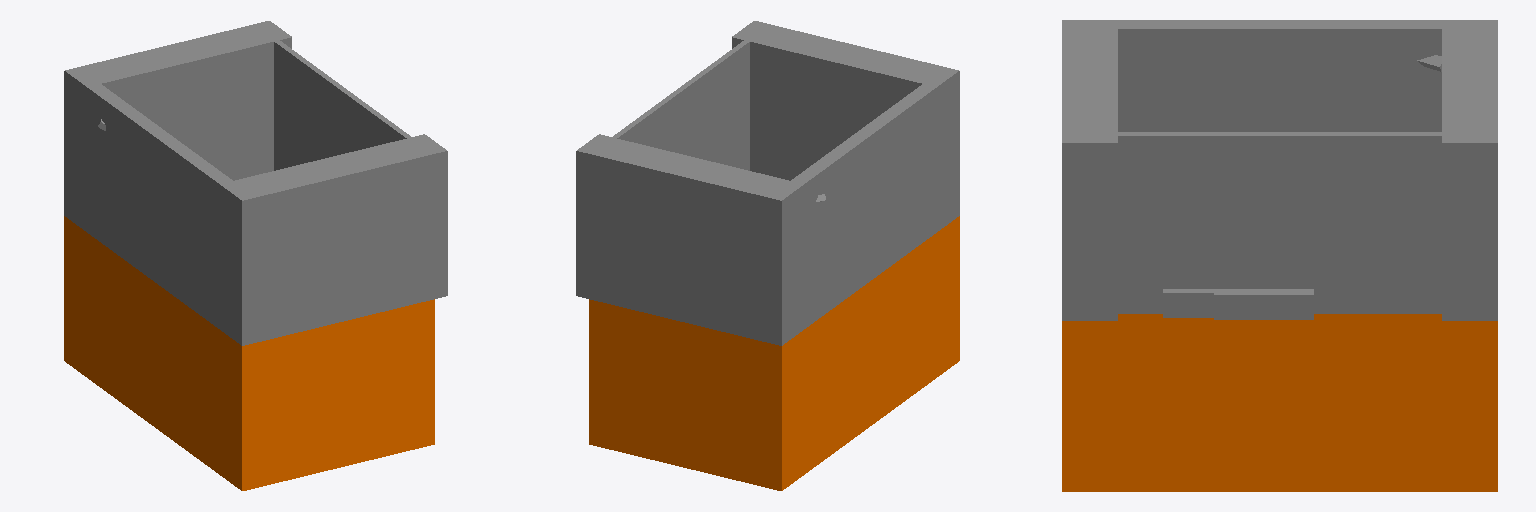
URDF robot description (mantis_ur5):
<?xml version="1.0" ?>
<!-- =================================================================================== -->
<!-- |    This document was autogenerated by xacro from urdf/mantis_ur5_arm_workspace.xacro | -->
<!-- |    EDITING THIS FILE BY HAND IS NOT RECOMMENDED                                 | -->
<!-- =================================================================================== -->
<robot name="mantis_ur5" xmlns:controller="http://playerstage.sourceforge.net/gazebo/xmlschema/#controller" xmlns:interface="http://playerstage.sourceforge.net/gazebo/xmlschema/#interface" xmlns:sensor="http://playerstage.sourceforge.net/gazebo/xmlschema/#sensor" xmlns:xacro="http://ros.org/wiki/xacro">
  <gazebo>
    <controller:gazebo_ros_controller_manager name="gazebo_ros_controller_manager" plugin="libgazebo_ros_controller_manager.so">
      <alwaysOn>true</alwaysOn>
      <updateRate>1000.0</updateRate>
      <interface:audio name="gazebo_ros_controller_manager_dummy_iface"/>
    </controller:gazebo_ros_controller_manager>
    <controller:gazebo_ros_power_monitor name="gazebo_ros_power_monitor_controller" plugin="libgazebo_ros_power_monitor.so">
      <alwaysOn>true</alwaysOn>
      <updateRate>1.0</updateRate>
      <timeout>5</timeout>
      <interface:audio name="power_monitor_dummy_interface"/>
      <powerStateTopic>power_state</powerStateTopic>
      <powerStateRate>10.0</powerStateRate>
      <fullChargeCapacity>87.78</fullChargeCapacity>
      <dischargeRate>-474</dischargeRate>
      <chargeRate>525</chargeRate>
      <dischargeVoltage>15.52</dischargeVoltage>
      <chargeVoltage>16.41</chargeVoltage>
    </controller:gazebo_ros_power_monitor>
  </gazebo>
  <material name="yellow_transparent">
    <color rgba="0 1 1 0.4"/>
  </material>
  <material name="orange_transparent">
    <color rgba="1 0.5 0 0.4"/>
  </material>
  <material name="gray_transparent">
    <color rgba="0.6 0.6 0.6 0.4"/>
  </material>
  <material name="blue_transparent">
    <color rgba="0 0.8 1 0.4"/>
  </material>
  <link name="workcell_frame"/>
  <!-- property list -->
  <!-- instantiating arm and gripper -->
  <link name="ur5_arm_base_link">
    <visual>
      <geometry>
        <mesh filename="package://ur5_description/meshes/Base.dae"/>
      </geometry>
      <origin rpy="0.0 0.0 2.3561944875" xyz="0.0 0.0 0.003"/>
    </visual>
    <inertial>
      <mass value="4.0"/>
      <inertia ixx="1.0" ixy="0.0" ixz="0.0" iyy="1.0" iyz="0.0" izz="1.0"/>
    </inertial>
  </link>
  <joint name="ur5_arm_shoulder_pan_joint" type="revolute">
    <parent link="ur5_arm_base_link"/>
    <child link="ur5_arm_shoulder_link"/>
    <origin rpy="0.0 0.0 0.0" xyz="0.0 0.0 0.089159"/>
    <axis xyz="0 0 1"/>
    <limit effort="10.0" lower="-6.2831853" upper="6.2831853" velocity="3.14159265"/>
    <dynamics damping="10" friction="0.1"/>
  </joint>
  <link name="ur5_arm_shoulder_link">
    <visual>
      <geometry>
        <mesh filename="package://ur5_description/meshes/Shoulder.dae"/>
      </geometry>
    </visual>
    <collision>
      <geometry>
        <mesh filename="package://ur5_description/meshes/collision/Shoulder.dae"/>
      </geometry>
      <!-- <origin rpy="0.0 0.0 0.0" xyz="0.0 0.0 -0.009159"/> -->
    </collision>
    <inertial>
      <mass value="3.7"/>
      <inertia ixx="1.0" ixy="0.0" ixz="0.0" iyy="1.0" iyz="0.0" izz="1.0"/>
      <origin rpy="0.0 0.0 0.0" xyz="0.0 0.00193 -0.02561"/>
    </inertial>
  </link>
  <joint name="ur5_arm_shoulder_lift_joint" type="revolute">
    <parent link="ur5_arm_shoulder_link"/>
    <child link="ur5_arm_upper_arm_link"/>
    <origin rpy="0.0 1.570796325 0.0" xyz="0.0 0.13585 0.0"/>
    <axis xyz="0 1 0"/>
    <limit effort="10.0" lower="-6.2831853" upper="6.2831853" velocity="3.14159265"/>
    <dynamics damping="10" friction="0.1"/>
  </joint>
  <link name="ur5_arm_upper_arm_link">
    <visual>
      <geometry>
        <mesh filename="package://ur5_description/meshes/UpperArm.dae"/>
      </geometry>
      <origin rpy="0.0 0.0 0.0" xyz="0.0 0.0 0.0"/>
    </visual>
    <collision>
      <geometry>
        <mesh filename="package://ur5_description/meshes/collision/UpperArm.dae"/>
      </geometry>
      <!--       <origin rpy="0.0 0.0 0.0" xyz="0.0 0.0 0.2125"/> -->
    </collision>
    <inertial>
      <mass value="8.393"/>
      <inertia ixx="1.0" ixy="0.0" ixz="0.0" iyy="1.0" iyz="0.0" izz="1.0"/>
      <origin rpy="0.0 0.0 0.0" xyz="0.0 -0.024201 0.2125"/>
    </inertial>
  </link>
  <joint name="ur5_arm_elbow_joint" type="revolute">
    <parent link="ur5_arm_upper_arm_link"/>
    <child link="ur5_arm_forearm_link"/>
    <origin rpy="0.0 0.0 0.0" xyz="0.0 -0.1197 0.425"/>
    <axis xyz="0 1 0"/>
    <limit effort="10.0" lower="-6.2831853" upper="6.2831853" velocity="3.14159265"/>
    <dynamics damping="10" friction="0.1"/>
  </joint>
  <link name="ur5_arm_forearm_link">
    <visual>
      <geometry>
        <mesh filename="package://ur5_description/meshes/Forearm.dae"/>
      </geometry>
    </visual>
    <collision>
      <geometry>
        <mesh filename="package://ur5_description/meshes/collision/Forearm.dae"/>
      </geometry>
      <!--       <origin rpy="0.0 0.0 0.0" xyz="0.0 0.0 0.196125"/> -->
    </collision>
    <inertial>
      <mass value="2.275"/>
      <origin rpy="0.0 0.0 0.0" xyz="0.0 0.0265 0.11993"/>
      <inertia ixx="1.0" ixy="0.0" ixz="0.0" iyy="1.0" iyz="0.0" izz="1.0"/>
    </inertial>
  </link>
  <joint name="ur5_arm_wrist_1_joint" type="revolute">
    <parent link="ur5_arm_forearm_link"/>
    <child link="ur5_arm_wrist_1_link"/>
    <origin rpy="0.0 1.570796325 0.0" xyz="0.0 0.0 0.39225"/>
    <axis xyz="0 1 0"/>
    <limit effort="10.0" lower="-6.2831853" upper="6.2831853" velocity="3.14159265"/>
    <dynamics damping="10" friction="0.1"/>
  </joint>
  <link name="ur5_arm_wrist_1_link">
    <visual>
      <geometry>
        <mesh filename="package://ur5_description/meshes/Wrist1.dae"/>
      </geometry>
      <origin rpy="0.0 1.570796325 0.0" xyz="0.0 0.093 0.0"/>
    </visual>
    <collision>
      <geometry>
        <mesh filename="package://ur5_description/meshes/collision/Wrist1.dae"/>
      </geometry>
      <origin rpy="0.0 1.570796325 0.0" xyz="0.0 0.093 0.0"/>
    </collision>
    <inertial>
      <mass value="1.219"/>
      <origin rpy="0.0 0.0 0.0" xyz="0.0 0.110949 0.01634"/>
      <inertia ixx="1.0" ixy="0.0" ixz="0.0" iyy="1.0" iyz="0.0" izz="1.0"/>
    </inertial>
  </link>
  <joint name="ur5_arm_wrist_2_joint" type="revolute">
    <parent link="ur5_arm_wrist_1_link"/>
    <child link="ur5_arm_wrist_2_link"/>
    <origin rpy="0.0 0.0 0.0" xyz="0.0 0.093 0.0"/>
    <axis xyz="0 0 1"/>
    <limit effort="10.0" lower="-6.2831853" upper="6.2831853" velocity="3.14159265"/>
    <dynamics damping="10" friction="0.1"/>
  </joint>
  <link name="ur5_arm_wrist_2_link">
    <visual>
      <geometry>
        <mesh filename="package://ur5_description/meshes/Wrist2.dae"/>
      </geometry>
      <origin rpy="0.0 0.0 0.0" xyz="0.0 0.0 0.09465"/>
    </visual>
    <collision>
      <geometry>
        <mesh filename="package://ur5_description/meshes/collision/Wrist2.dae"/>
      </geometry>
      <origin rpy="0.0 0.0 0.0" xyz="0.0 0.0 0.09465"/>
    </collision>
    <inertial>
      <mass value="1.219"/>
      <origin rpy="0.0 0.0 0.0" xyz="0.0 0.0018 0.11099"/>
      <inertia ixx="1.0" ixy="0.0" ixz="0.0" iyy="1.0" iyz="0.0" izz="1.0"/>
    </inertial>
  </link>
  <joint name="ur5_arm_wrist_3_joint" type="revolute">
    <parent link="ur5_arm_wrist_2_link"/>
    <child link="ur5_arm_wrist_3_link"/>
    <origin rpy="0.0 0.0 0.0" xyz="0.0 0.0 0.09465"/>
    <axis xyz="0 1 0"/>
    <limit effort="10.0" lower="-6.2831853" upper="6.2831853" velocity="3.14159265"/>
    <dynamics damping="10" friction="0.1"/>
  </joint>
  <link name="ur5_arm_wrist_3_link">
    <visual>
      <geometry>
        <mesh filename="package://ur5_description/meshes/Wrist3.dae"/>
      </geometry>
    </visual>
    <collision>
      <geometry>
        <mesh filename="package://ur5_description/meshes/collision/Wrist3.dae"/>
      </geometry>
    </collision>
    <inertial>
      <mass value="0.1879"/>
      <origin rpy="0.0 0.0 0.0" xyz="0.0 0.001159 0.0"/>
      <inertia ixx="1.0" ixy="0.0" ixz="0.0" iyy="1.0" iyz="0.0" izz="1.0"/>
    </inertial>
  </link>
  <joint name="ur5_arm_ee_fixed_joint" type="fixed">
    <parent link="ur5_arm_wrist_3_link"/>
    <child link="ur5_arm_ee_link"/>
    <origin rpy="0.0 0.0 1.570796325" xyz="0.0 0.0823 0.0"/>
  </joint>
  <link name="ur5_arm_ee_link"/>
  <transmission name="shoulder_pan_trans" type="pr2_mechanism_model/SimpleTransmission">
    <actuator name="shoulder_pan_motor"/>
    <joint name="ur5_arm_shoulder_pan_joint"/>
    <mechanicalReduction>1</mechanicalReduction>
  </transmission>
  <transmission name="shoulder_lift_trans" type="pr2_mechanism_model/SimpleTransmission">
    <actuator name="shoulder_lift_motor"/>
    <joint name="ur5_arm_shoulder_lift_joint"/>
    <mechanicalReduction>1</mechanicalReduction>
  </transmission>
  <transmission name="elbow_trans" type="pr2_mechanism_model/SimpleTransmission">
    <actuator name="elbow_motor"/>
    <joint name="ur5_arm_elbow_joint"/>
    <mechanicalReduction>1</mechanicalReduction>
  </transmission>
  <transmission name="wrist_1_trans" type="pr2_mechanism_model/SimpleTransmission">
    <actuator name="wrist_1_motor"/>
    <joint name="ur5_arm_wrist_1_joint"/>
    <mechanicalReduction>1</mechanicalReduction>
  </transmission>
  <transmission name="wrist_2_trans" type="pr2_mechanism_model/SimpleTransmission">
    <actuator name="wrist_2_motor"/>
    <joint name="ur5_arm_wrist_2_joint"/>
    <mechanicalReduction>1</mechanicalReduction>
  </transmission>
  <transmission name="wrist_3_trans" type="pr2_mechanism_model/SimpleTransmission">
    <actuator name="wrist_3_motor"/>
    <joint name="ur5_arm_wrist_3_joint"/>
    <mechanicalReduction>1</mechanicalReduction>
  </transmission>
  <gazebo reference="universal_robot">
    <material>Gazebo/Blue</material>
  </gazebo>
  <link name="ur5_arm_gripper_frame"/>
  <link name="ur5_arm_gripper_body">
    <visual>
      <!--origin xyz="0 0.036 -0.0473" rpy="0 0 0"/-->
      <!--geometry>
					<box size="${gripper_length} ${gripper_width} ${gripper_height}"/>
				</geometry-->
      <origin rpy="0 0 0" xyz="0 0 -0.048"/>
      <geometry>
        <mesh filename="package://mantis_config/config/meshes/vacuum_gripper.STL"/>
      </geometry>
      <material name="silver">
        <color rgba="0.8 0.8 0.8 1"/>
      </material>
    </visual>
    <collision>
      <geometry>
        <box size="0.044 0.088 0.0946"/>
      </geometry>
      <material name="another_blue2">
        <color rgba="0.38 0.54 0.83 1"/>
      </material>
    </collision>
  </link>
  <link name="ur5_arm_tcp_frame"/>
  <joint name="ur5_arm_gripper_to_palm" type="fixed">
    <parent link="ur5_arm_gripper_frame"/>
    <child link="ur5_arm_gripper_body"/>
    <origin rpy="0 0 0" xyz="0 0 0.0473"/>
  </joint>
  <joint name="ur5_arm_gripper_to_tcp" type="fixed">
    <parent link="ur5_arm_gripper_frame"/>
    <child link="ur5_arm_tcp_frame"/>
    <origin rpy="0 0 0" xyz=" 0 0.022 0.0946"/>
  </joint>
  <!-- instantiating workcell definitions -->
  <link name="table_base2">
    <visual>
      <origin rpy="0 0 0" xyz="0 0 -0.5"/>
      <geometry>
        <box size="1.3875 2.22 1"/>
      </geometry>
      <material name="orange_transparent"/>
    </visual>
    <collision>
      <origin rpy="0 0 0" xyz="0 0 -0.5"/>
      <geometry>
        <box size="1.3875 2.22 1"/>
      </geometry>
      <material name="blue_transparent"/>
    </collision>
  </link>
  <joint name="workcell_to_table_base2" type="fixed">
    <parent link="workcell_frame"/>
    <child link="table_base2"/>
    <origin rpy="0 0 0" xyz="-0.69375 0 0"/>
  </joint>
  <link name="front_wall2">
    <visual>
      <geometry>
        <box size="0.1 2.22 1"/>
      </geometry>
      <material name="gray_transparent"/>
    </visual>
    <collision>
      <geometry>
        <box size="0.1 2.22 1"/>
      </geometry>
      <material name="blue_transparent"/>
    </collision>
  </link>
  <joint name="workcell_frame_to_front_wall2" type="fixed">
    <parent link="workcell_frame"/>
    <child link="front_wall2"/>
    <origin rpy="0 0 0" xyz="-1.3375 0 0.5"/>
  </joint>
  <link name="back_wall2">
    <visual>
      <geometry>
        <box size="0.04 2.0 1"/>
      </geometry>
      <material name="gray_transparent"/>
    </visual>
    <collision>
      <geometry>
        <box size="0.04 2.0 1"/>
      </geometry>
      <material name="blue_transparent"/>
    </collision>
  </link>
  <joint name="workcell_frame_to_back_wall2" type="fixed">
    <parent link="workcell_frame"/>
    <child link="back_wall2"/>
    <origin rpy="0 0 0" xyz="-0.02 0 0.5"/>
  </joint>
  <link name="left_wall2">
    <visual>
      <geometry>
        <box size="1.384 0.284 1"/>
      </geometry>
      <material name="gray_transparent"/>
    </visual>
    <collision>
      <geometry>
        <box size="1.384 0.284 1"/>
      </geometry>
      <material name="blue_transparent"/>
    </collision>
  </link>
  <joint name="workcell_frame_to_left_wall2" type="fixed">
    <parent link="workcell_frame"/>
    <child link="left_wall2"/>
    <origin rpy="0 0 0" xyz="-0.601 0.968 0.5"/>
  </joint>
  <link name="right_wall2">
    <visual>
      <geometry>
        <box size="1.384 0.284 1"/>
      </geometry>
      <material name="gray_transparent"/>
    </visual>
    <collision>
      <geometry>
        <box size="1.384 0.284 1"/>
      </geometry>
      <material name="blue_transparent"/>
    </collision>
  </link>
  <joint name="workcell_frame_to_right_wall2" type="fixed">
    <parent link="workcell_frame"/>
    <child link="right_wall2"/>
    <origin rpy="0 0 0" xyz="-0.601 -0.968 0.5"/>
  </joint>
  <link name="cover_part1">
    <visual>
      <geometry>
        <box size="0.229 0.508 0.14"/>
      </geometry>
      <material name="gray_transparent"/>
    </visual>
    <collision>
      <geometry>
        <box size="0.229 0.508 0.14"/>
      </geometry>
      <material name="blue_transparent"/>
    </collision>
  </link>
  <joint name="workcell_frame_to_cover_part1" type="fixed">
    <parent link="workcell_frame"/>
    <child link="cover_part1"/>
    <origin rpy="0 0 0" xyz="-0.042 -0.081 0.07"/>
  </joint>
  <link name="cover_part2">
    <visual>
      <geometry>
        <box size="0.121 0.26 0.14"/>
      </geometry>
      <material name="gray_transparent"/>
    </visual>
    <collision>
      <geometry>
        <box size="0.121 0.26 0.14"/>
      </geometry>
      <material name="blue_transparent"/>
    </collision>
  </link>
  <joint name="workcell_frame_to_cover_part2" type="fixed">
    <parent link="workcell_frame"/>
    <child link="cover_part2"/>
    <origin rpy="0 0 0" xyz="-0.012 -0.465 0.07"/>
  </joint>
  <!-- end of workcell definitions -->
  <!-- instantiating sensor definitions -->
  <material name="ur5_arm_color_b">
    <color rgba="0 0.8 1 0.4"/>
  </material>
  <material name="ur5_arm_color_a">
    <color rgba="0.8 0.2 1 0.2"/>
  </material>
  <material name="ur5_arm_silver">
    <color rgba="0.6 0.6 0.6 1"/>
  </material>
  <link name="ur5_arm_kinect">
    <collision>
      <material name="ur5_arm_color_a"/>
      <geometry>
        <box size="0.36 0.28 0.22"/>
      </geometry>
    </collision>
  </link>
  <link name="ur5_arm_kinect_keepout">
    <collision>
      <material name="ur5_arm_color_b"/>
      <geometry>
        <box size="0.2 0.32 0.7"/>
      </geometry>
    </collision>
  </link>
  <link name="ur5_arm_kinect_frame">
    <visual>
      <origin rpy="0 0 0" xyz="0 0 0"/>
      <geometry>
        <box size="0.064 0.28 0.04"/>
      </geometry>
      <material name="ur5_arm_silver"/>
    </visual>
    <collision>
      <origin rpy="0 0 0" xyz="0 0 0"/>
      <geometry>
        <box size="0.064 0.28 0.04"/>
      </geometry>
    </collision>
  </link>
  <link name="ur5_arm_kinect_ir_link">
    <visual>
      <origin rpy="0 0 0" xyz="0 0 0"/>
      <geometry>
        <sphere radius="0.0005"/>
      </geometry>
    </visual>
  </link>
  <link name="ur5_arm_kinect_rgb_link">
    <visual>
      <origin rpy="0 0 0" xyz="0 0 0"/>
      <geometry>
        <sphere radius="0.0005"/>
      </geometry>
    </visual>
  </link>
  <link name="ur5_arm_kinect_ir_optical_frame"/>
  <link name="ur5_arm_kinect_rgb_optical_frame"/>
  <joint name="ur5_arm_kinect_frame_joint" type="fixed">
    <parent link="ur5_arm_kinect"/>
    <child link="ur5_arm_kinect_frame"/>
    <origin rpy="0 0 0" xyz="0 0 0"/>
  </joint>
  <joint name="ur5_arm_kinect_ir_joint" type="fixed">
    <parent link="ur5_arm_kinect_frame"/>
    <child link="ur5_arm_kinect_ir_link"/>
    <origin rpy="0 0 0" xyz="0 0 0"/>
  </joint>
  <joint name="ur5_arm_kinect_ir_optical_frame_joint" type="fixed">
    <parent link="ur5_arm_kinect_ir_link"/>
    <child link="ur5_arm_kinect_ir_optical_frame"/>
    <origin rpy="-1.57 0 -1.57" xyz="0 0 0"/>
  </joint>
  <joint name="ur5_arm_kinect_rgb_joint" type="fixed">
    <parent link="ur5_arm_kinect_ir_link"/>
    <child link="ur5_arm_kinect_rgb_link"/>
    <origin rpy="0 0 0" xyz="0 -0.03 0"/>
  </joint>
  <joint name="ur5_arm_kinect_rgb_optical_frame_joint" type="fixed">
    <parent link="ur5_arm_kinect_rgb_link"/>
    <child link="ur5_arm_kinect_rgb_optical_frame"/>
    <origin rpy="-1.57 0 -1.57" xyz="0 0 0"/>
  </joint>
  <joint name="ur5_arm_ur5_arm_base_link_to_kinect" type="fixed">
    <parent link="ur5_arm_base_link"/>
    <child link="ur5_arm_kinect"/>
    <origin rpy="0 0.5235 2.536" xyz="1.08 -0.72 0.62"/>
  </joint>
  <joint name="ur5_arm_ur5_arm_base_link_to_kinect_keepout" type="fixed">
    <parent link="ur5_arm_base_link"/>
    <child link="ur5_arm_kinect_keepout"/>
    <origin rpy="0 0 2.536" xyz="1.08 -0.72 0.35"/>
  </joint>
  <!-- end of sensor definitions -->
  <!-- arm-workcell link definitions -->
  <link name="ur5_stand">
    <visual>
      <geometry>
        <cylinder length="0.2" radius="0.0735"/>
      </geometry>
      <material name="orange_transparent"/>
    </visual>
    <collision>
      <geometry>
        <cylinder length="0.2" radius="0.0735"/>
      </geometry>
      <material name="blue_transparent"/>
    </collision>
  </link>
  <joint name="workcell_to_stand" type="fixed">
    <parent link="workcell_frame"/>
    <child link="ur5_stand"/>
    <origin xyz="-0.238 0 0.10"/>
  </joint>
  <!-- end of arm-workcell link definitions -->
  <!-- arm-workcell joint definitions -->
  <joint name="ur5_to_stand" type="fixed">
    <parent link="ur5_stand"/>
    <child link="ur5_arm_base_link"/>
    <origin rpy="0 0 -3.14" xyz="0 0 0.10"/>
  </joint>
  <!-- end of arm workcell joint definitions-->
  <!-- arm-gripper coupling joint definitions -->
  <joint name="ur5_arm_to_gripper" type="fixed">
    <parent link="ur5_arm_ee_link"/>
    <child link="ur5_arm_gripper_frame"/>
    <origin rpy="0 1.57 0" xyz="0 0 0"/>
  </joint>
  <!-- end of arm-gripper coupling joint definitions -->
</robot>

--- What the picture shows (computed from the rendered views, not written in the file) ---
The picture shows the robot from 3 angles, left to right: view 1: azimuth 30°, elevation 25°; view 2: azimuth 150°, elevation 25°; view 3: azimuth 270°, elevation 25°; orthographic projection.
Robot: mantis_ur5 — 27 links, 26 joints (6 revolute, 20 fixed); root link workcell_frame; default pose: all joints at 0.
Links seen in each view (by area): view 1: table_base2, right_wall2, front_wall2, left_wall2, back_wall2; view 2: table_base2, left_wall2, front_wall2, right_wall2, back_wall2; view 3: table_base2, back_wall2, front_wall2, right_wall2, left_wall2, cover_part1, cover_part2.
Link boxes in pixels (bbox=[...]): table_base2: bbox=[64, 216, 434, 490]; right_wall2: bbox=[233, 134, 447, 342]; front_wall2: bbox=[64, 67, 255, 345]; left_wall2: bbox=[79, 21, 291, 180]; back_wall2: bbox=[260, 30, 424, 170]; table_base2: bbox=[589, 216, 959, 490]; left_wall2: bbox=[576, 134, 789, 342]; front_wall2: bbox=[768, 67, 959, 345]; right_wall2: bbox=[732, 21, 944, 180]; back_wall2: bbox=[599, 31, 763, 170]; table_base2: bbox=[1062, 314, 1497, 491]; back_wall2: bbox=[1084, 132, 1475, 313]; front_wall2: bbox=[1062, 20, 1497, 131]; right_wall2: bbox=[1062, 29, 1117, 320]; left_wall2: bbox=[1442, 29, 1497, 320]; cover_part1: bbox=[1214, 289, 1313, 319]; cover_part2: bbox=[1163, 289, 1213, 317].
Size in the robot's own frame: 1.52 by 2.22 by 2 metres.
Meshes: 8 distinct files referenced, 1 mesh visuals loaded (1 binary STL); not drawn: 7 (reference not matched to a file when rendering).